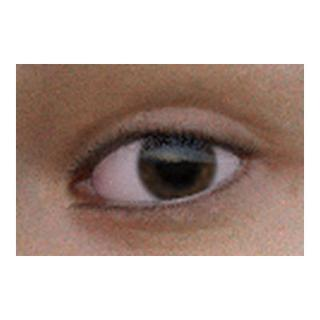pupil: (157, 144, 198, 184)
